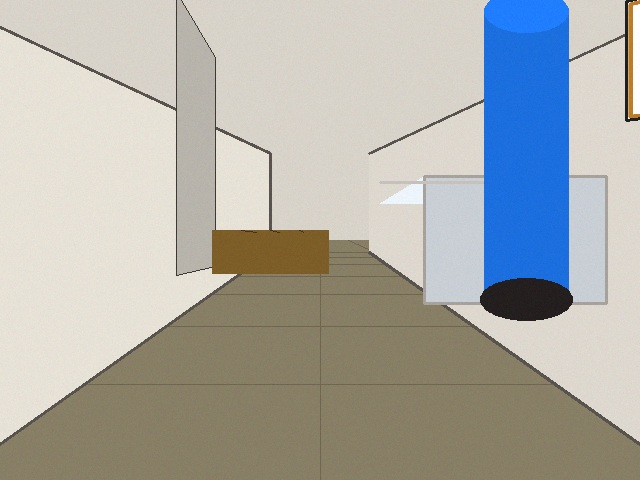directional_sign: (626, 0, 639, 120)
hospital_bed: (380, 176, 606, 303)
pallet: (212, 230, 328, 273)
person: (484, 11, 568, 299)
